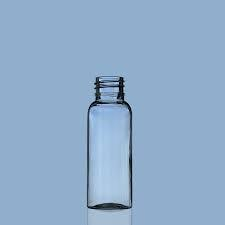Container for household chemicals: (76, 65, 140, 213)
